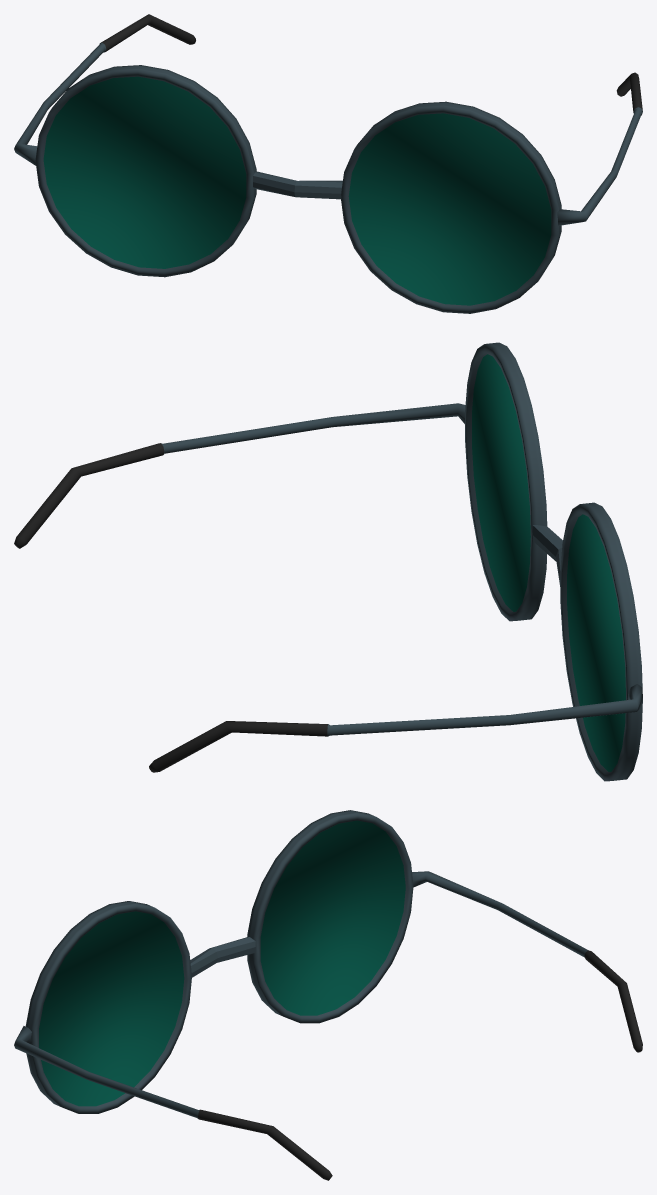
The model's file is greenglasses.glb.
3 renders of one model, top to bottom at view 1: azimuth 30°, elevation 25°; view 2: azimuth 150°, elevation 25°; view 3: azimuth 270°, elevation 25°, orthographic. The views are drawn at different scales.
Parts seen in each view (by area): view 1: glasses_blue; view 2: glasses_blue; view 3: glasses_blue.
Part boxes in pixels (x1=…): glasses_blue: x1=14, y1=14, x2=642, y2=313; glasses_blue: x1=14, y1=342, x2=642, y2=781; glasses_blue: x1=14, y1=810, x2=642, y2=1180.
Size of the model in its own units: 0.3248 by 0.1143 by 0.326.
Materials: 2 (2 with a texture image).
